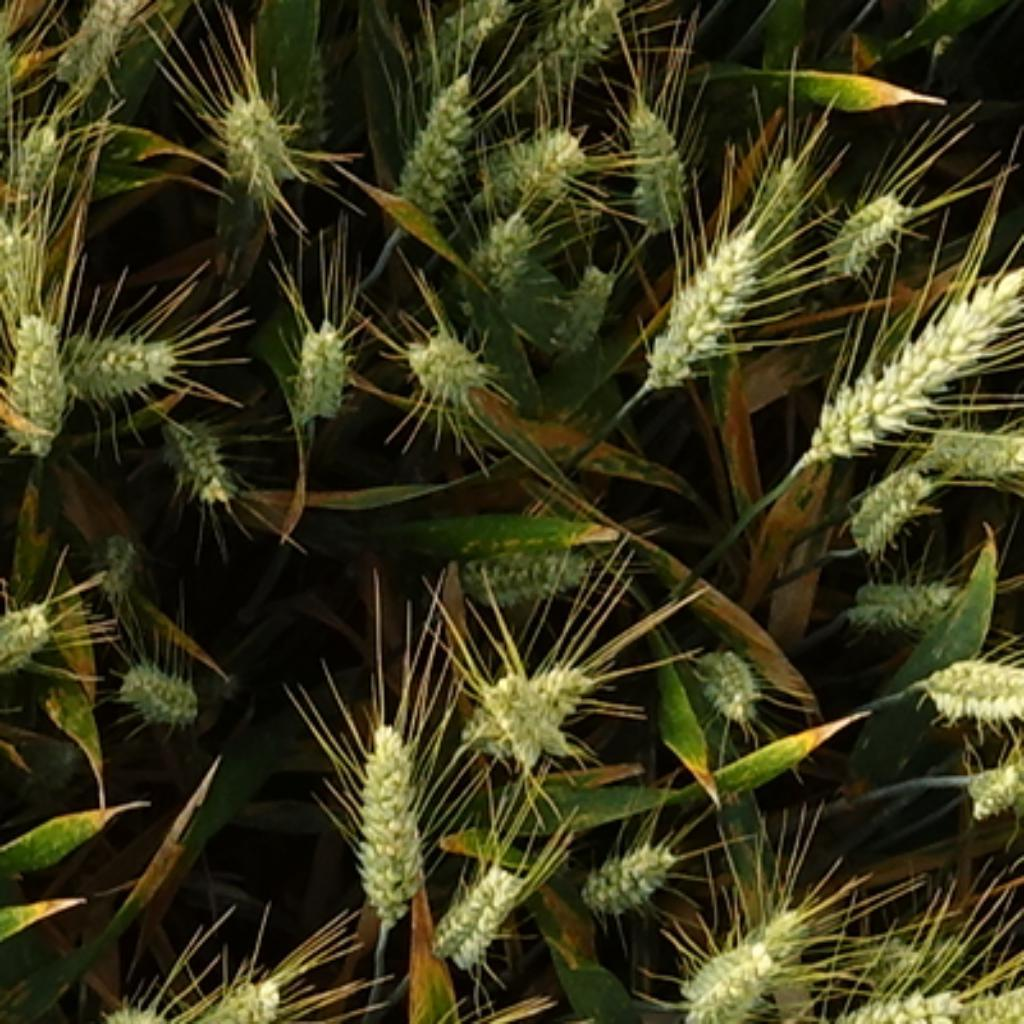0-0: (802, 261, 1024, 464), (634, 212, 773, 389), (337, 709, 437, 924), (440, 524, 611, 616), (670, 906, 803, 1024), (389, 64, 483, 207), (427, 858, 527, 971), (153, 401, 249, 517), (0, 312, 74, 458), (56, 314, 179, 399), (616, 87, 693, 220), (401, 317, 499, 421), (212, 74, 304, 181), (573, 824, 683, 913), (476, 115, 588, 202), (499, 662, 598, 760), (912, 411, 1024, 494), (842, 450, 939, 545), (51, 2, 161, 84), (839, 560, 962, 629), (750, 138, 806, 289), (281, 307, 355, 419), (455, 667, 538, 766), (821, 176, 911, 266), (919, 645, 1024, 721), (517, 0, 632, 68), (834, 967, 969, 1024), (460, 204, 545, 294), (0, 207, 52, 350), (112, 658, 207, 734), (404, 2, 516, 66), (547, 256, 619, 350), (684, 643, 763, 727), (935, 950, 1024, 1023), (175, 974, 306, 1022), (3, 120, 74, 202), (954, 742, 1024, 821), (0, 583, 58, 670), (87, 519, 148, 593)
